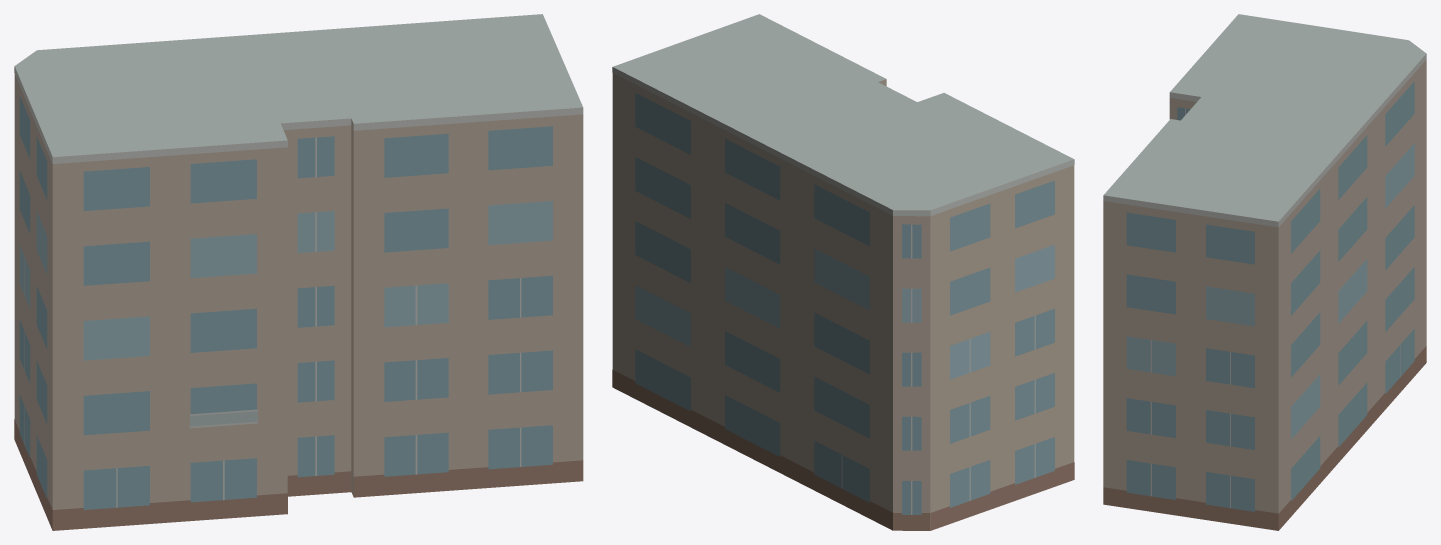
The model's file is survey-upis-32653772.glb.
3 views of the same model, side by side, from view 1: azimuth 30°, elevation 25°; view 2: azimuth 150°, elevation 25°; view 3: azimuth 270°, elevation 25° (orthographic). The views are drawn at different scales.
Visible parts, largest first — view 1: survey-upis-32653772.tmp; view 2: survey-upis-32653772.tmp; view 3: survey-upis-32653772.tmp.
Boxes of the visible parts, x1,y1,x2,y2 form: survey-upis-32653772.tmp: (14,14,583,530); survey-upis-32653772.tmp: (612,14,1074,530); survey-upis-32653772.tmp: (1103,14,1426,530).
Bounding box in the file's own units: 19.17 × 13.3 × 12.61.
